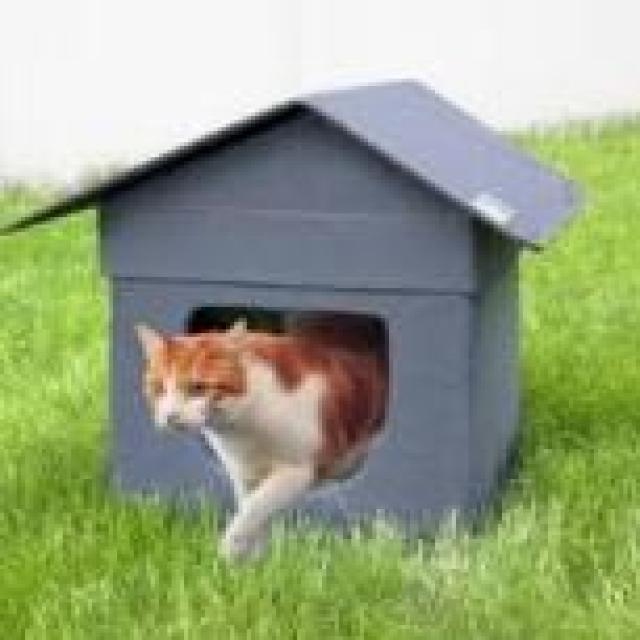Gato: (114, 300, 402, 566)
